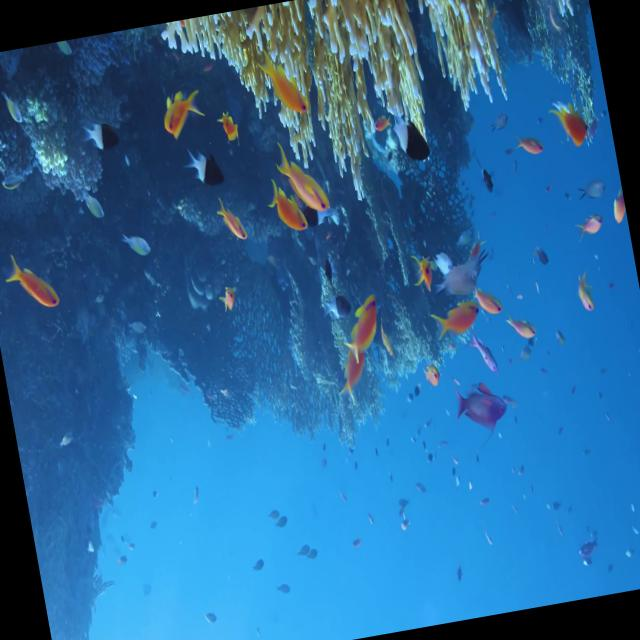fish: (264, 130, 338, 226), (0, 240, 65, 332), (246, 34, 310, 127), (428, 238, 509, 310), (252, 163, 316, 250), (147, 72, 214, 149), (424, 284, 486, 352), (384, 98, 438, 174), (338, 294, 392, 366), (172, 132, 228, 198), (69, 108, 136, 162), (452, 382, 514, 436), (467, 324, 512, 386), (210, 190, 252, 256), (550, 90, 592, 147), (120, 226, 161, 278), (76, 178, 112, 234), (210, 99, 244, 158), (569, 267, 602, 325), (209, 276, 250, 322), (332, 352, 368, 402), (468, 279, 509, 318), (571, 208, 612, 246), (514, 131, 554, 167), (407, 248, 436, 296), (505, 310, 537, 352), (604, 184, 629, 234), (416, 354, 445, 391), (529, 238, 555, 274), (477, 162, 500, 200)
